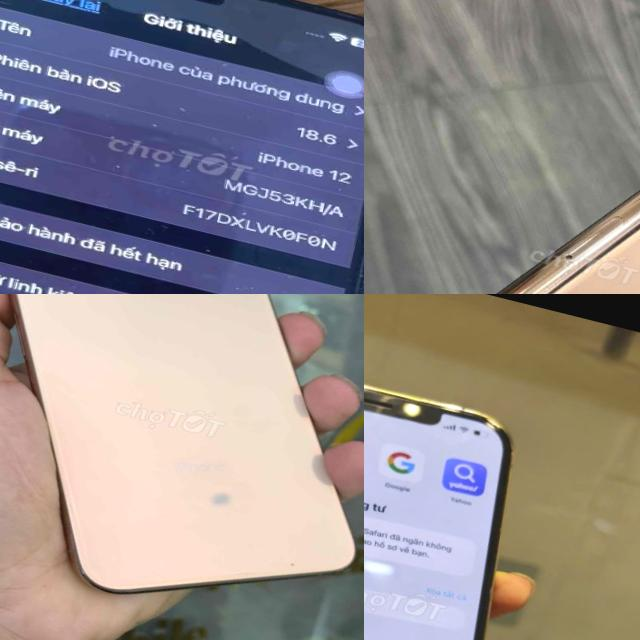gen_11: (364, 0, 640, 294)
gen_12_13: (0, 0, 364, 294), (364, 342, 562, 640)
gen_x_xs: (0, 294, 364, 640)
